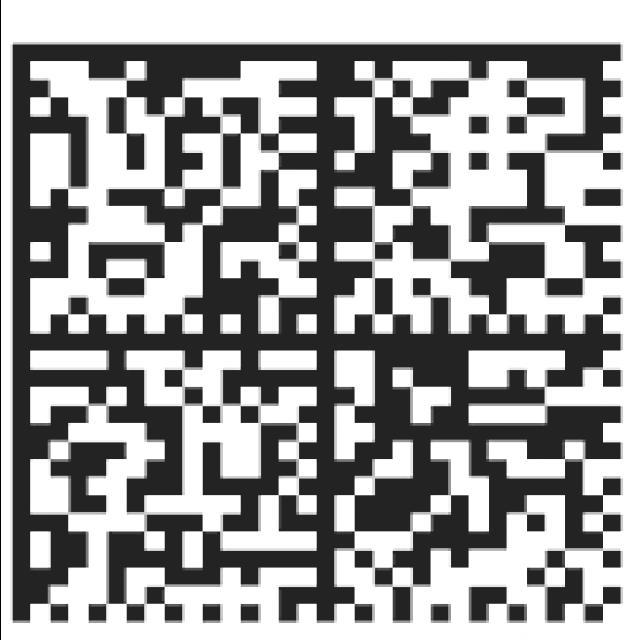Data-Matrix: (3, 33, 631, 632)
